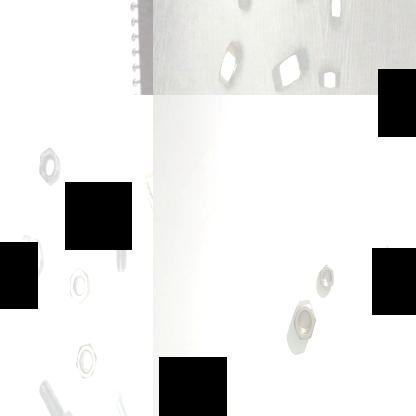Bolts: (108, 198, 137, 276), (32, 367, 77, 416), (109, 382, 142, 416), (140, 139, 153, 219)
NUTS: (12, 232, 50, 287), (271, 43, 308, 95), (214, 25, 240, 91), (36, 138, 62, 198), (71, 335, 103, 381), (66, 262, 93, 312), (375, 236, 400, 284), (290, 300, 316, 344), (314, 61, 342, 95), (315, 258, 337, 293), (324, 0, 345, 30), (289, 0, 317, 14), (233, 0, 258, 14)
